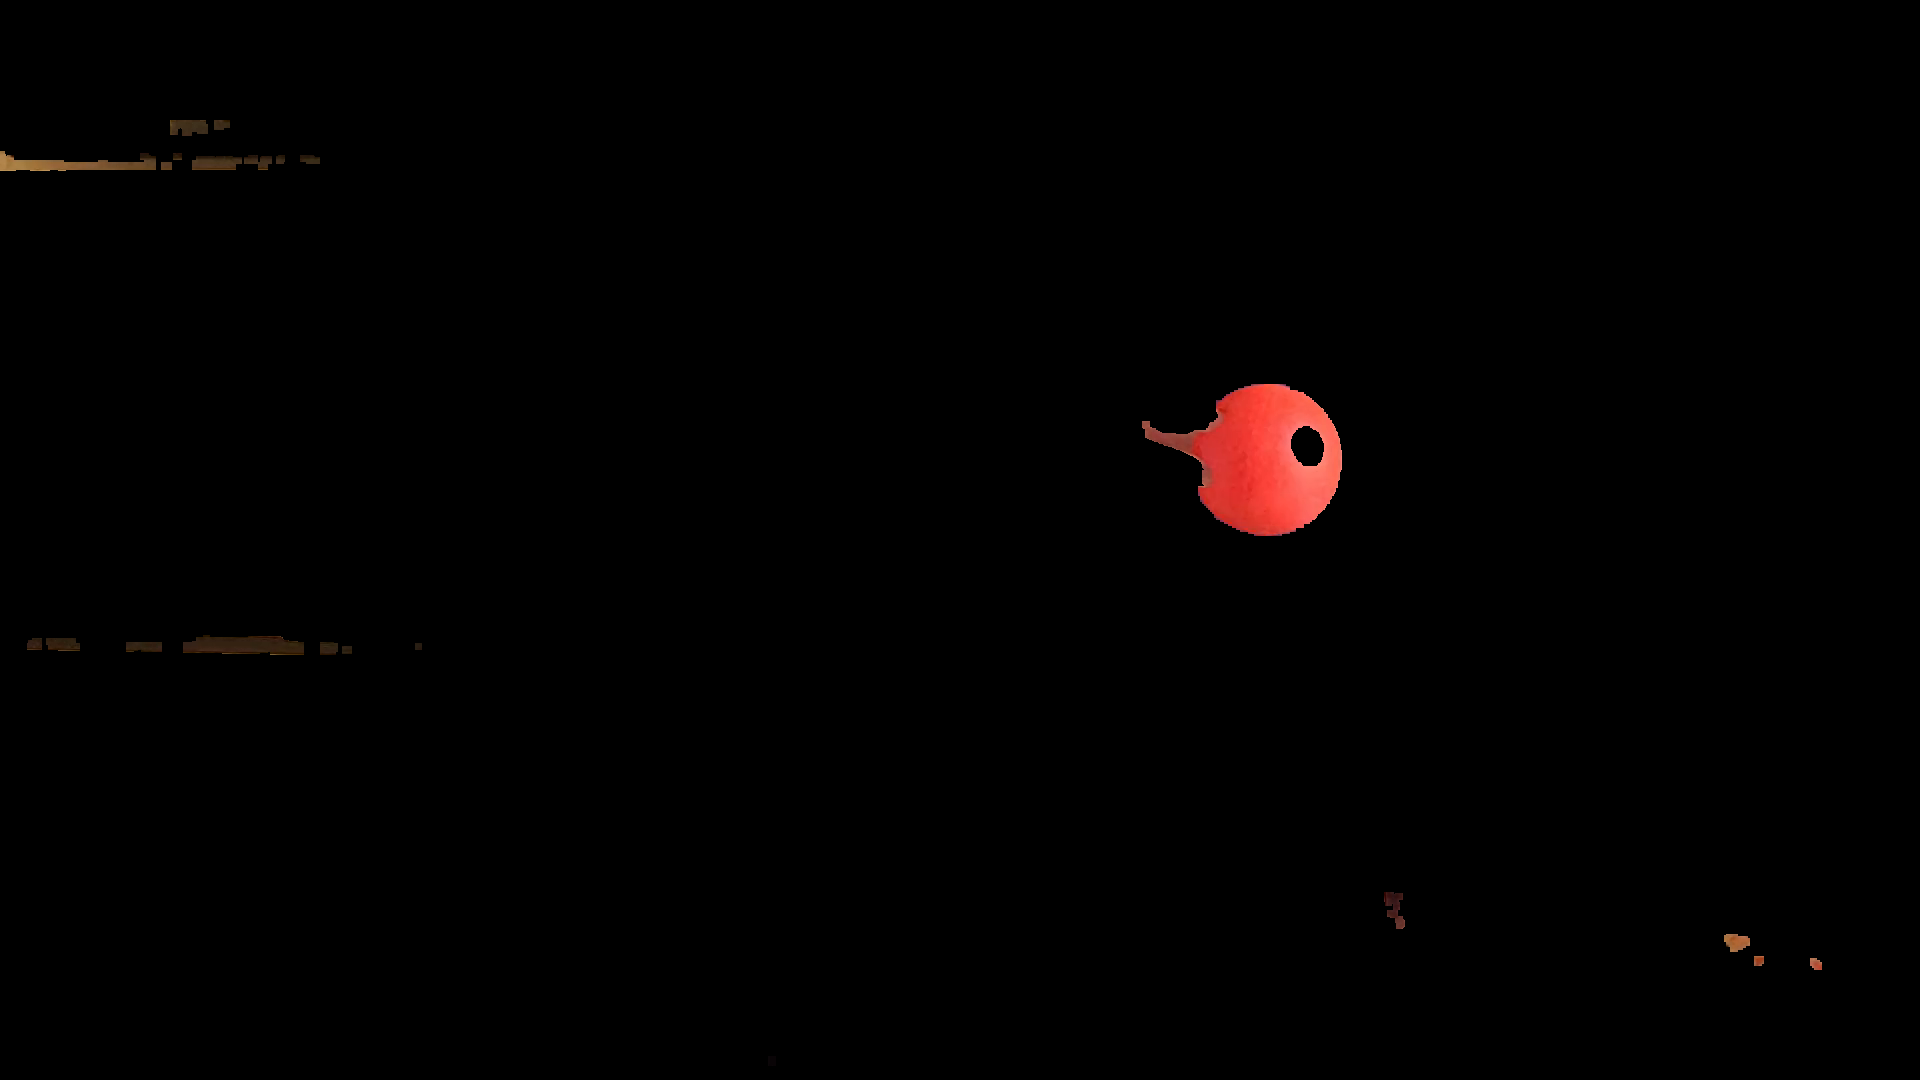Ball: (1189, 382, 1342, 545)
